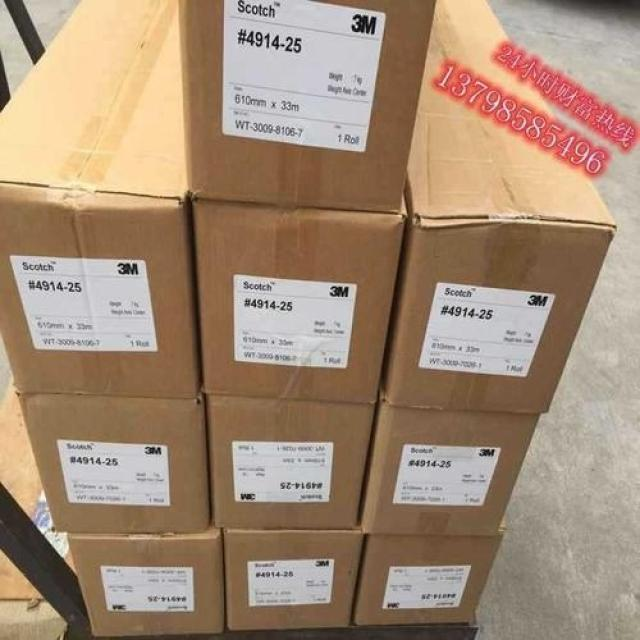box: (380, 2, 616, 414), (0, 0, 202, 397), (178, 1, 437, 213), (190, 199, 407, 405), (16, 397, 214, 533), (360, 404, 542, 536), (205, 394, 376, 527), (66, 524, 225, 637), (352, 517, 506, 627), (224, 527, 366, 631)
